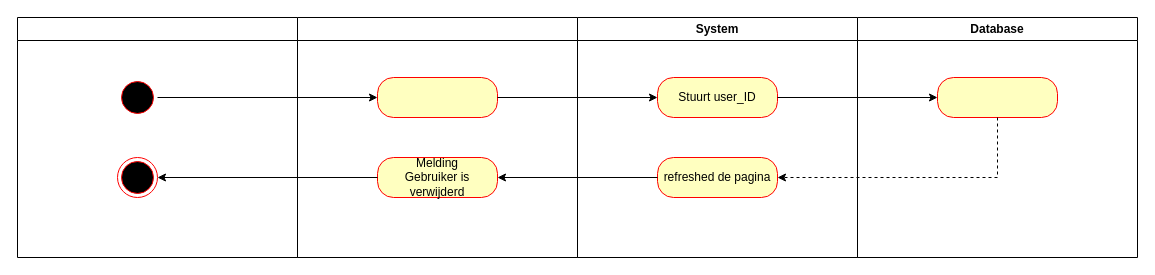
Some shapes in this 1155 by 275 pixel diagram are drawn without their labels. The shapes that lost their labels are listed below. From the top down, each one's box as (x1, y1, x2, y2) in pixels, then its label:
(376, 76, 498, 118): Drukt op de verwijderen knop
(936, 76, 1058, 118): Verwijderd de row die bij dit user_ID hoort
(296, 16, 578, 258): Actor
